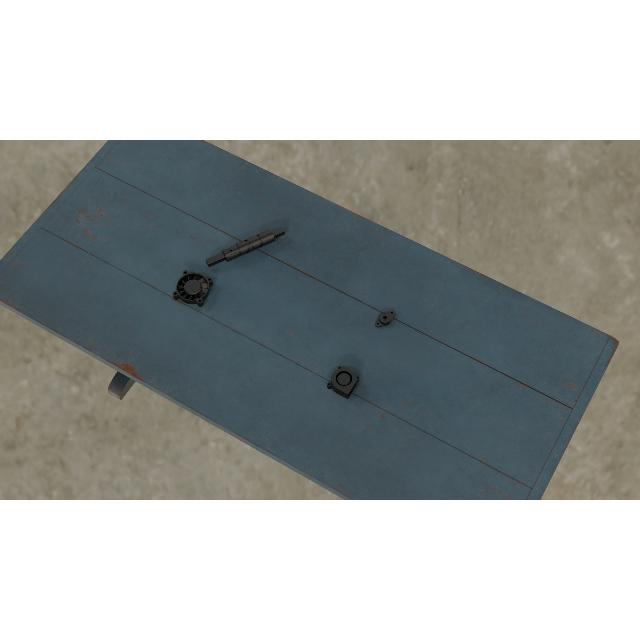Pieza1: (204, 222, 286, 272)
Pieza2: (371, 306, 399, 332)
Pieza3: (326, 364, 360, 400)
Pieza4: (172, 270, 214, 308)
